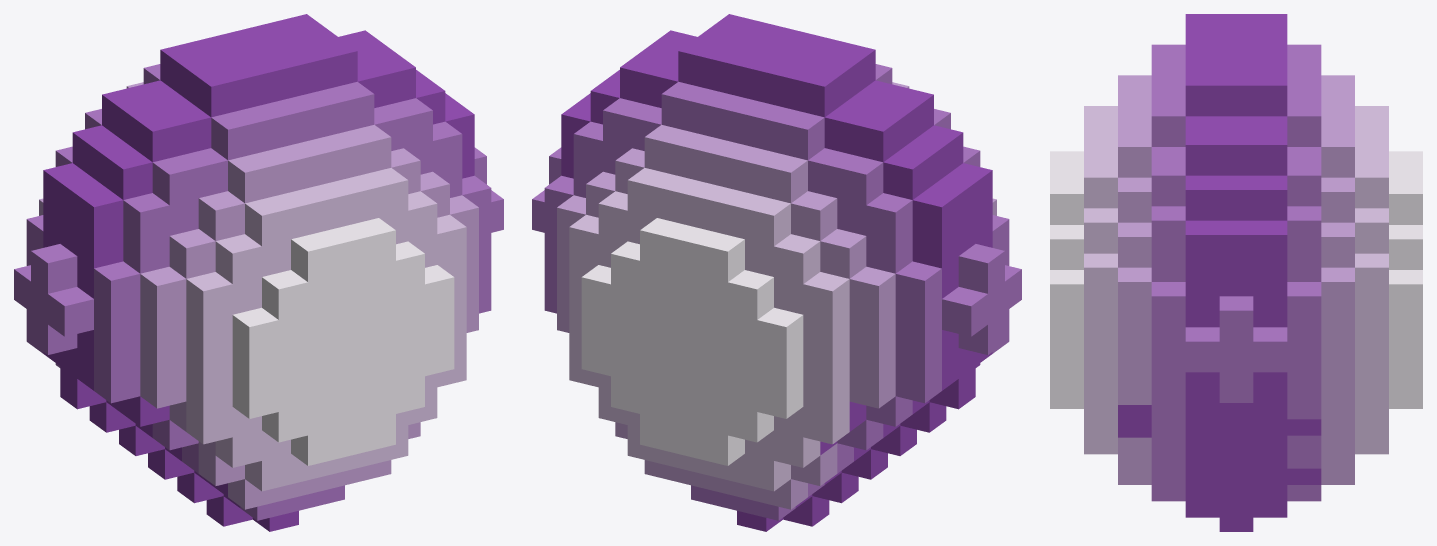
File: BallonCharacter.fbx
3 views of the same model, side by side, from view 1: azimuth 30°, elevation 25°; view 2: azimuth 150°, elevation 25°; view 3: azimuth 270°, elevation 25° (orthographic).
Visible parts, largest first — view 1: ObjObject.002; view 2: ObjObject.002; view 3: ObjObject.002.
Boxes of the visible parts, bbox=[...] form: ObjObject.002: bbox=[14, 14, 503, 531]; ObjObject.002: bbox=[532, 14, 1021, 531]; ObjObject.002: bbox=[1050, 14, 1422, 531].
Bounding box in the file's own units: 150 × 150 × 110.
